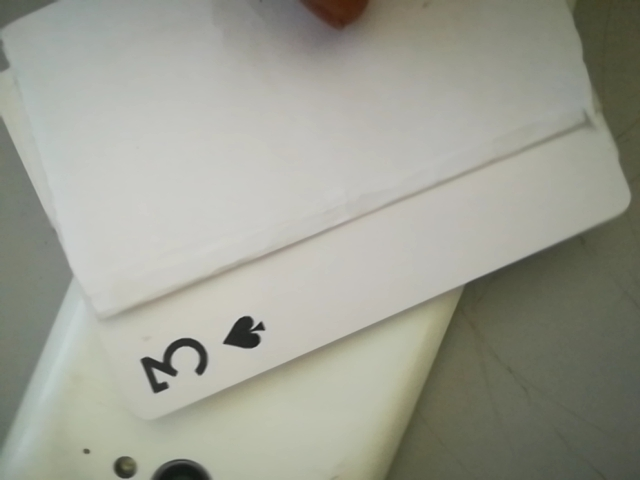ht 3: (120, 300, 288, 406)
